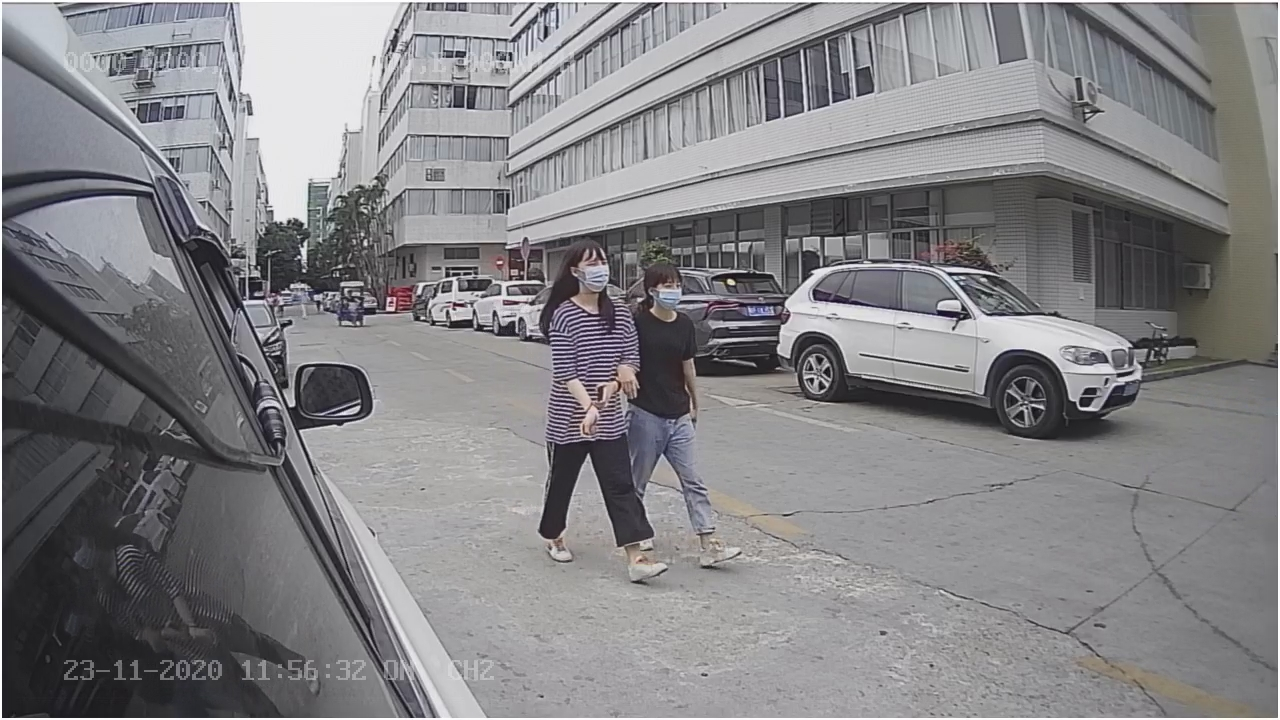person: (533, 234, 667, 583), (623, 259, 752, 568)
